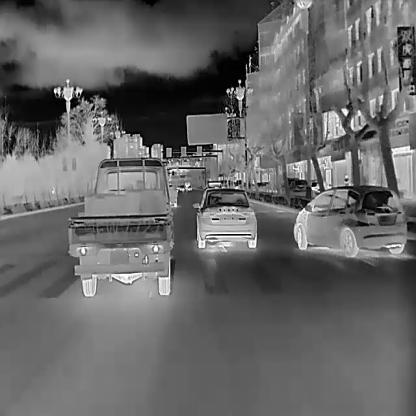bus: (184, 181, 189, 190)
car: (66, 154, 175, 295), (292, 184, 407, 256), (192, 184, 256, 247), (202, 180, 222, 195), (167, 183, 177, 207), (342, 173, 350, 185), (187, 185, 191, 190)
